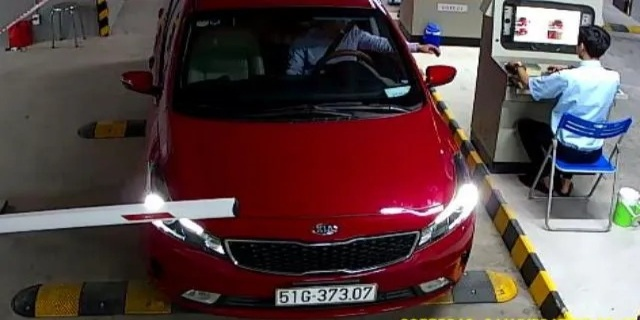bien_so: (277, 285, 377, 303)
